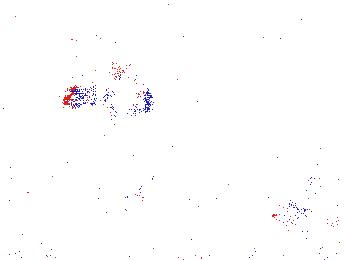flame jellyfish: (63, 66, 158, 121), (272, 172, 346, 228), (111, 144, 159, 200)
